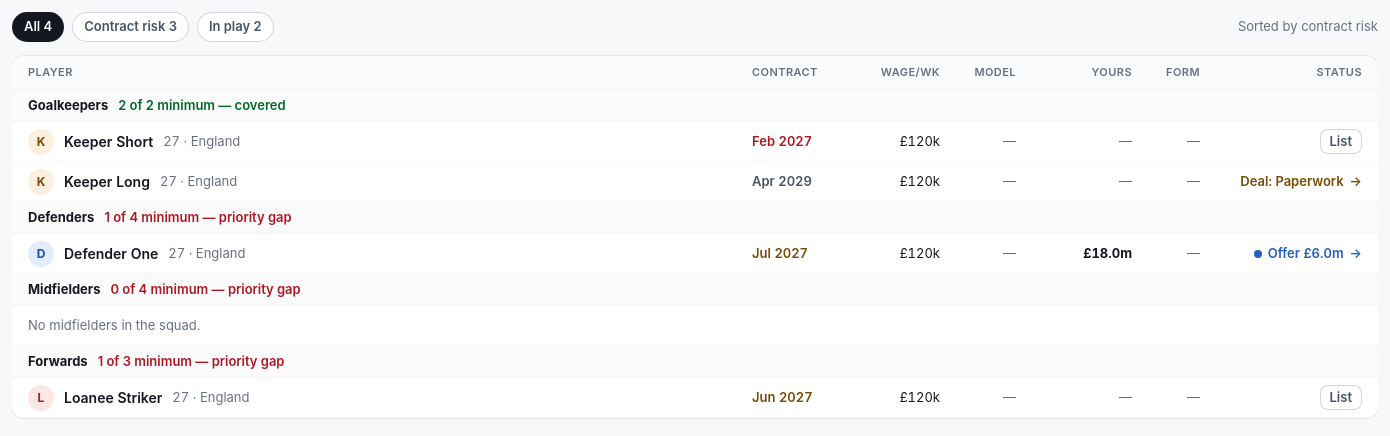
Test case: SquadTable › says how far a player's sale has got, links to it, and filters to players in play
Check: the element named "Your move" is shown, box [1254,250,1262,258]
What coordinates should you click on to do the following:
click the button "In play 2"
I would click on:
 (235, 27)
Its box is [197,12,274,42].
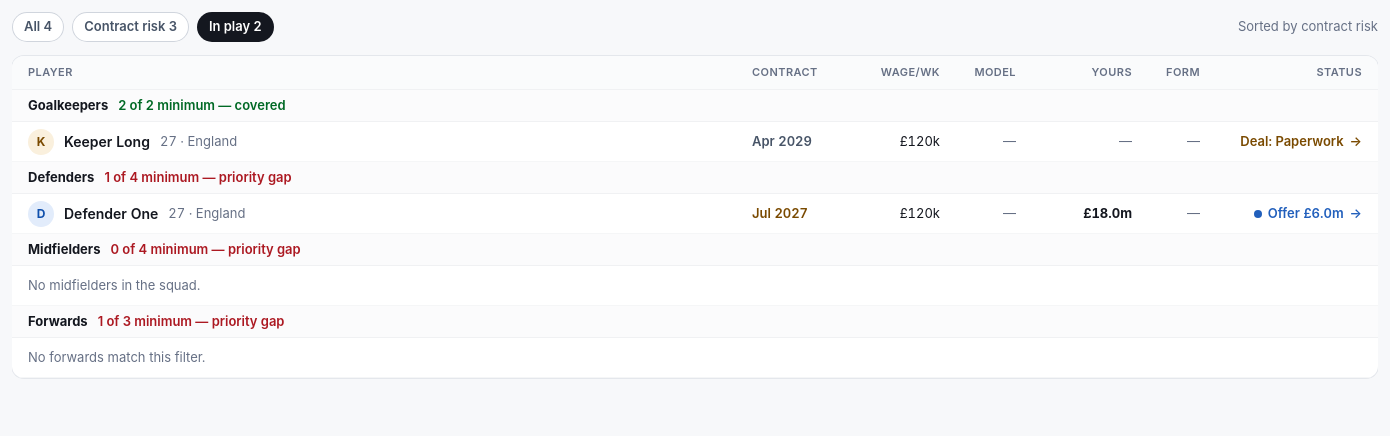
Check: the link "Defender One" is shown, box [64,204,158,224]
Check: the link "Keeper Short" is gone
